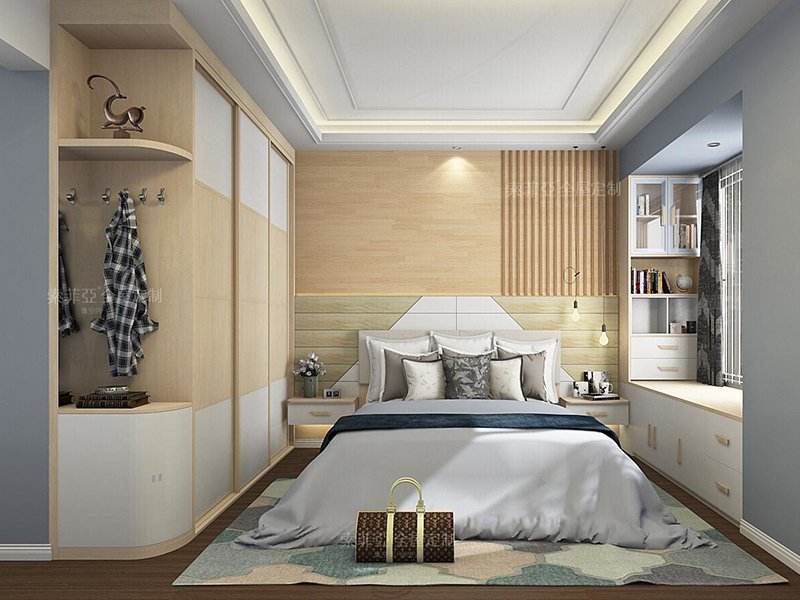床: (275, 396, 677, 561)
枕头: (372, 333, 566, 406)
灯: (430, 150, 484, 186), (566, 264, 585, 325), (595, 295, 612, 345)
